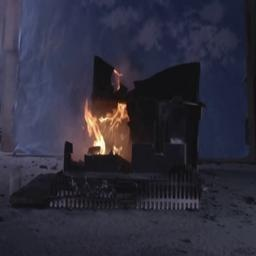fire: (83, 88, 140, 162)
